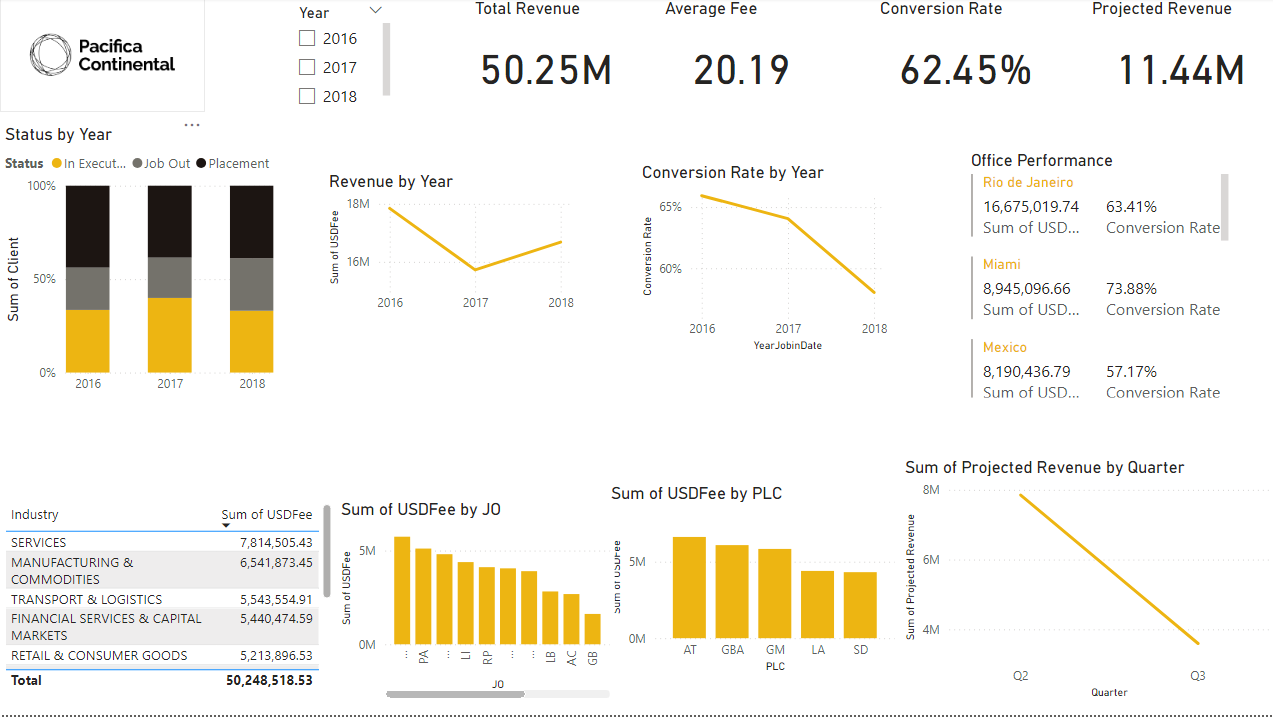

The dashboard page shown, as its layout file describes it:
{"tool":"powerbi","page":{"name":"Page 1","canvas":[1280,720],"ordinal":0},"visuals":[{"type":"hundredPercentStackedColumnChart","title":"Status by Year","fields":{"Category":["Pacifica report.YearJobinDate"],"Series":["Pacifica report.Status"],"Y":["Sum(Pacifica report.Client)"]},"box":[0,126.1,280.1,280.1],"z":0},{"type":"multiRowCard","title":"Office Performance","fields":{"Values":["Pacifica report.Office","Sum(Pacifica report.USDFee)","Pacifica report.Conversion Rate"]},"box":[970.5,152.7,269.3,254.2],"z":1000},{"type":"card","title":"Average Fee","fields":{"Values":["Pacifica report.Average Fee%"]},"box":[672.2,0,163.8,114.5],"z":2000},{"type":"card","title":"Total Revenue","fields":{"Values":["Sum(Pacifica report.USDFee)"]},"box":[472.2,0,151.7,114.5],"z":3000},{"type":"lineChart","title":"Revenue by Year","fields":{"Y":["Sum(Pacifica report.USDFee)"],"Category":["Pacifica report.YearJobinDate"]},"box":[325.2,173.6,255.8,150.5],"z":4000},{"type":"card","title":"Conversion Rate","fields":{"Values":["Pacifica report.Conversion Rate"]},"box":[879.1,0,181.9,114.5],"z":5000},{"type":"columnChart","title":"Revenue by Placement Owner","fields":{"Y":["Sum(Pacifica report.USDFee)"],"Category":["Pacifica report.PLC"]},"box":[618,460.6,295.1,247.7],"z":6000},{"type":"lineChart","title":"Conversion Rate by Year","fields":{"Category":["Pacifica report.YearJobinDate"],"Y":["Pacifica report.Conversion Rate"]},"box":[640,164.8,256.2,194.9],"z":7000},{"type":"slicer","fields":{"Values":["Pacifica report.YearJobinDate"]},"box":[287.3,0,109.5,114.5],"z":8000},{"type":"image","box":[0,0,206,114.6],"z":9000},{"type":"columnChart","title":"Revenue by Job Owner","fields":{"Y":["Sum(Pacifica report.USDFee)"],"Category":["Pacifica report.JO"]},"box":[342.6,460.6,275.4,247.7],"z":10000},{"type":"tableEx","title":"Revenue per Industry","fields":{"Values":["Pacifica report.Industry","Sum(Pacifica report.USDFee)"]},"box":[0,460.9,307.3,238.2],"z":11000},{"type":"lineChart","title":"Projected Revenue by Quarter","fields":{"Y":["Sum(Pacifica report.Projected Rev)"],"Category":["Pacifica report.Quarter"]},"box":[922.3,461.2,357.7,247.2],"z":12000},{"type":"card","title":"Projected Revenue","fields":{"Values":["Sum(Pacifica report.Projected Revenue)"]},"box":[1092.1,0,171.8,114.5],"z":13000}]}

Visuals, with their boxes in screenshot pixels (x1, y1, x2, y2), scaled from the page's 1280x720 canvas onto the 1273x719 screenshot:
"Status by Year" hundredPercentStackedColumnChart: 0,126,279,406
"Office Performance" multiRowCard: 965,152,1233,406
"Average Fee" card: 669,0,831,114
"Total Revenue" card: 470,0,620,114
"Revenue by Year" lineChart: 323,173,578,324
"Conversion Rate" card: 874,0,1055,114
"Revenue by Placement Owner" columnChart: 615,460,908,707
"Conversion Rate by Year" lineChart: 636,165,891,359
slicer - Pacifica report.YearJobinDate: 286,0,395,114
image: 0,0,205,114
"Revenue by Job Owner" columnChart: 341,460,615,707
"Revenue per Industry" tableEx: 0,460,306,698
"Projected Revenue by Quarter" lineChart: 917,461,1272,707
"Projected Revenue" card: 1086,0,1257,114
